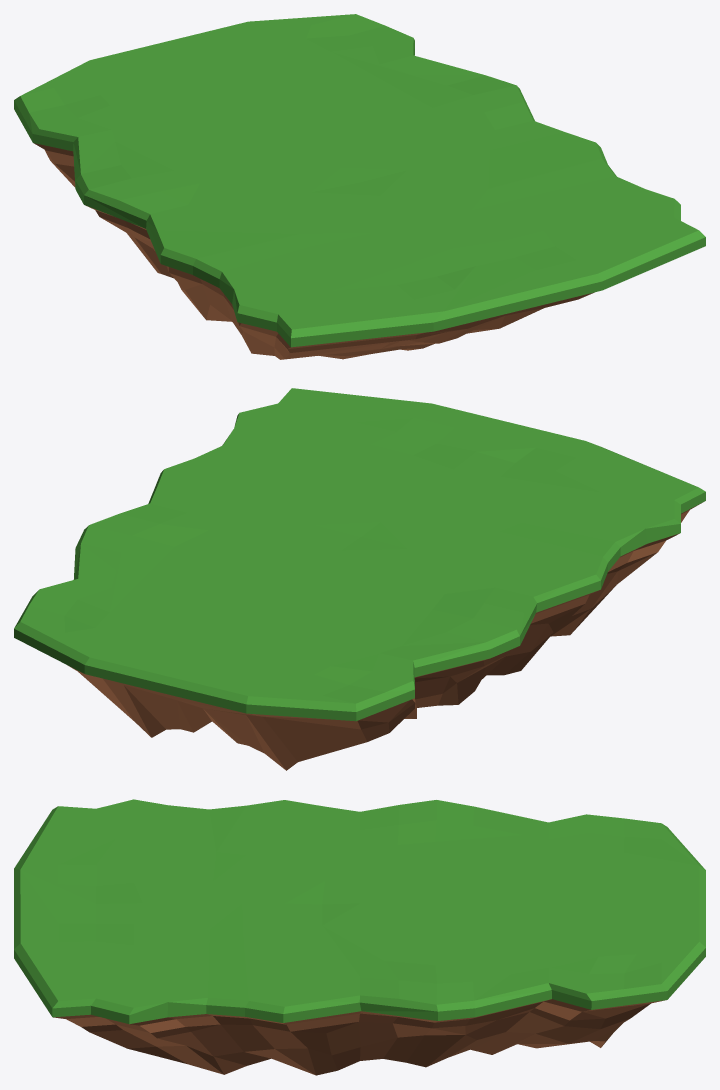
File: island3.fbx
3 renders of one model, top to bottom at view 1: azimuth 30°, elevation 25°; view 2: azimuth 150°, elevation 25°; view 3: azimuth 270°, elevation 25°, orthographic.
Parts seen in each view (by area): view 1: island3; view 2: island3; view 3: island3.
Part boxes in pixels (x1,y1,x2,y2): island3: (14,14,705,359); island3: (14,388,705,770); island3: (14,799,705,1075).
Bounding box in the file's own units: 2322 × 683 × 3195.
